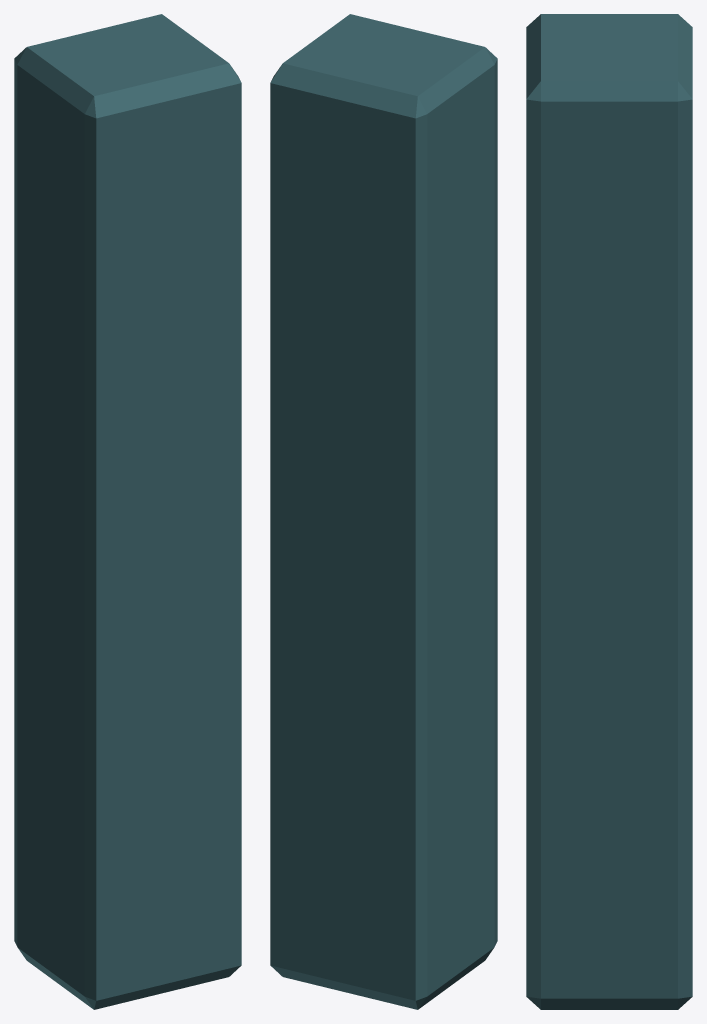
File: WoodPillar.fbx
3 views of the same model, side by side, from view 1: azimuth 30°, elevation 25°; view 2: azimuth 150°, elevation 25°; view 3: azimuth 270°, elevation 25° (orthographic).
Parts seen in each view (by area): view 1: WoodColum; view 2: WoodColum; view 3: WoodColum.
Part boxes in pixels (x1,y1,x2,y2): WoodColum: [14, 14, 241, 1009]; WoodColum: [270, 14, 497, 1009]; WoodColum: [526, 14, 692, 1009].
Size of the model in its own units: 2.38 by 13.5 by 2.19.
